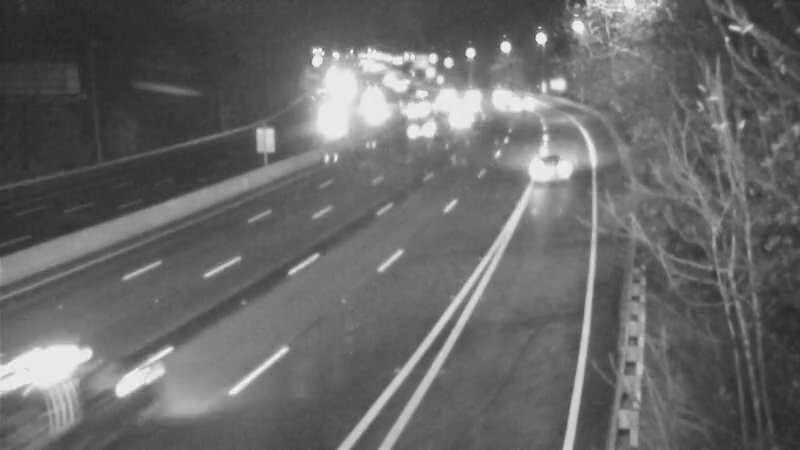vehicle: (510, 125, 590, 205), (392, 69, 442, 119), (421, 68, 471, 118), (476, 72, 526, 122), (447, 70, 497, 120), (420, 81, 470, 131), (486, 80, 536, 130), (441, 84, 491, 134), (391, 83, 441, 133), (431, 96, 481, 146), (396, 104, 446, 154), (309, 91, 359, 141)
